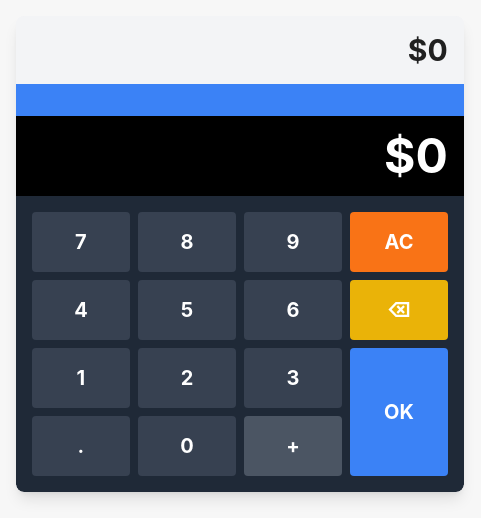
Test: AccountingApp › shows category selector when OK is clicked
Step 1. Click the button "1" → coordinates (81, 378), box [32, 348, 130, 408]
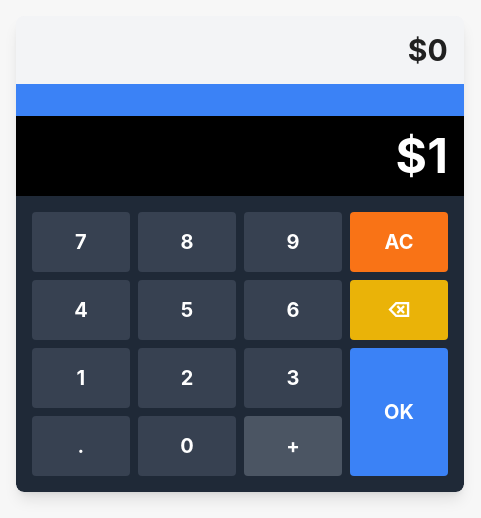
Step 2. Click the button "0" → coordinates (187, 446), box [138, 416, 236, 476]
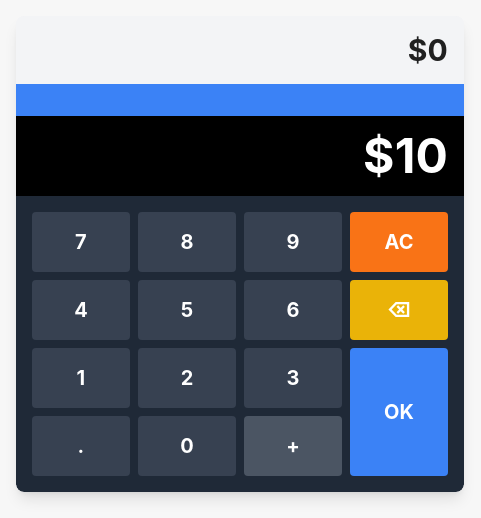
Step 3. Click the button "OK" → coordinates (399, 412), box [350, 348, 448, 476]
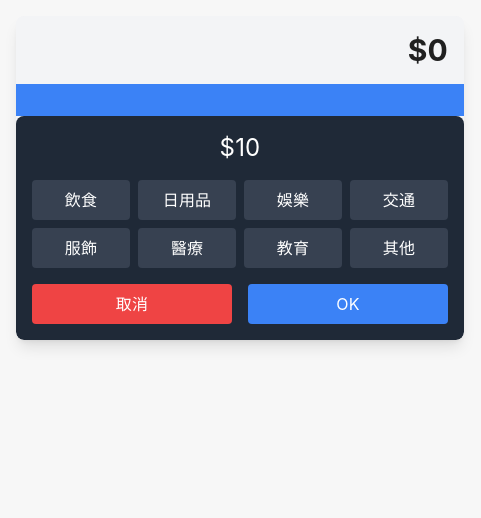
Result: the button "飲食" is shown at [32, 180, 130, 220]
Result: the button "日用品" is shown at [138, 180, 236, 220]
